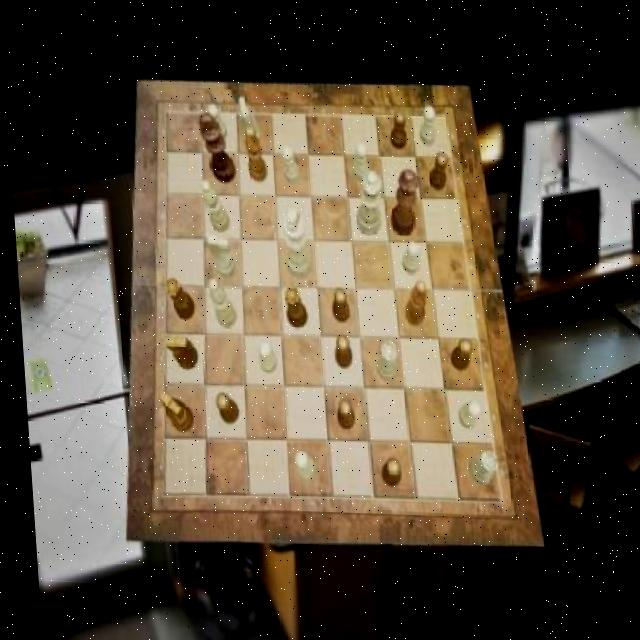bishop: (242, 125, 265, 182), (398, 277, 424, 324)
black-bishop: (197, 110, 234, 182)
black-king: (153, 389, 188, 431), (160, 335, 194, 370)
black-knight: (443, 334, 468, 369), (427, 149, 448, 188), (210, 390, 234, 423), (387, 108, 406, 147), (329, 331, 348, 366), (327, 284, 346, 319), (374, 455, 396, 484), (331, 397, 350, 428)
black-pawn: (386, 166, 419, 233)
black-queen: (160, 275, 190, 318), (280, 286, 304, 327)
black-rook: (199, 179, 227, 233), (204, 277, 232, 326)
white-bishop: (279, 205, 310, 278)
white-king: (203, 233, 231, 277), (237, 95, 260, 148)
white-knight: (205, 101, 227, 139), (417, 103, 436, 143), (348, 141, 367, 180), (280, 143, 299, 182), (397, 237, 418, 272), (453, 397, 477, 426), (288, 449, 309, 481), (252, 339, 271, 372)
white-pawn: (350, 167, 381, 233)
white-queen: (461, 447, 492, 482), (370, 338, 393, 378)
